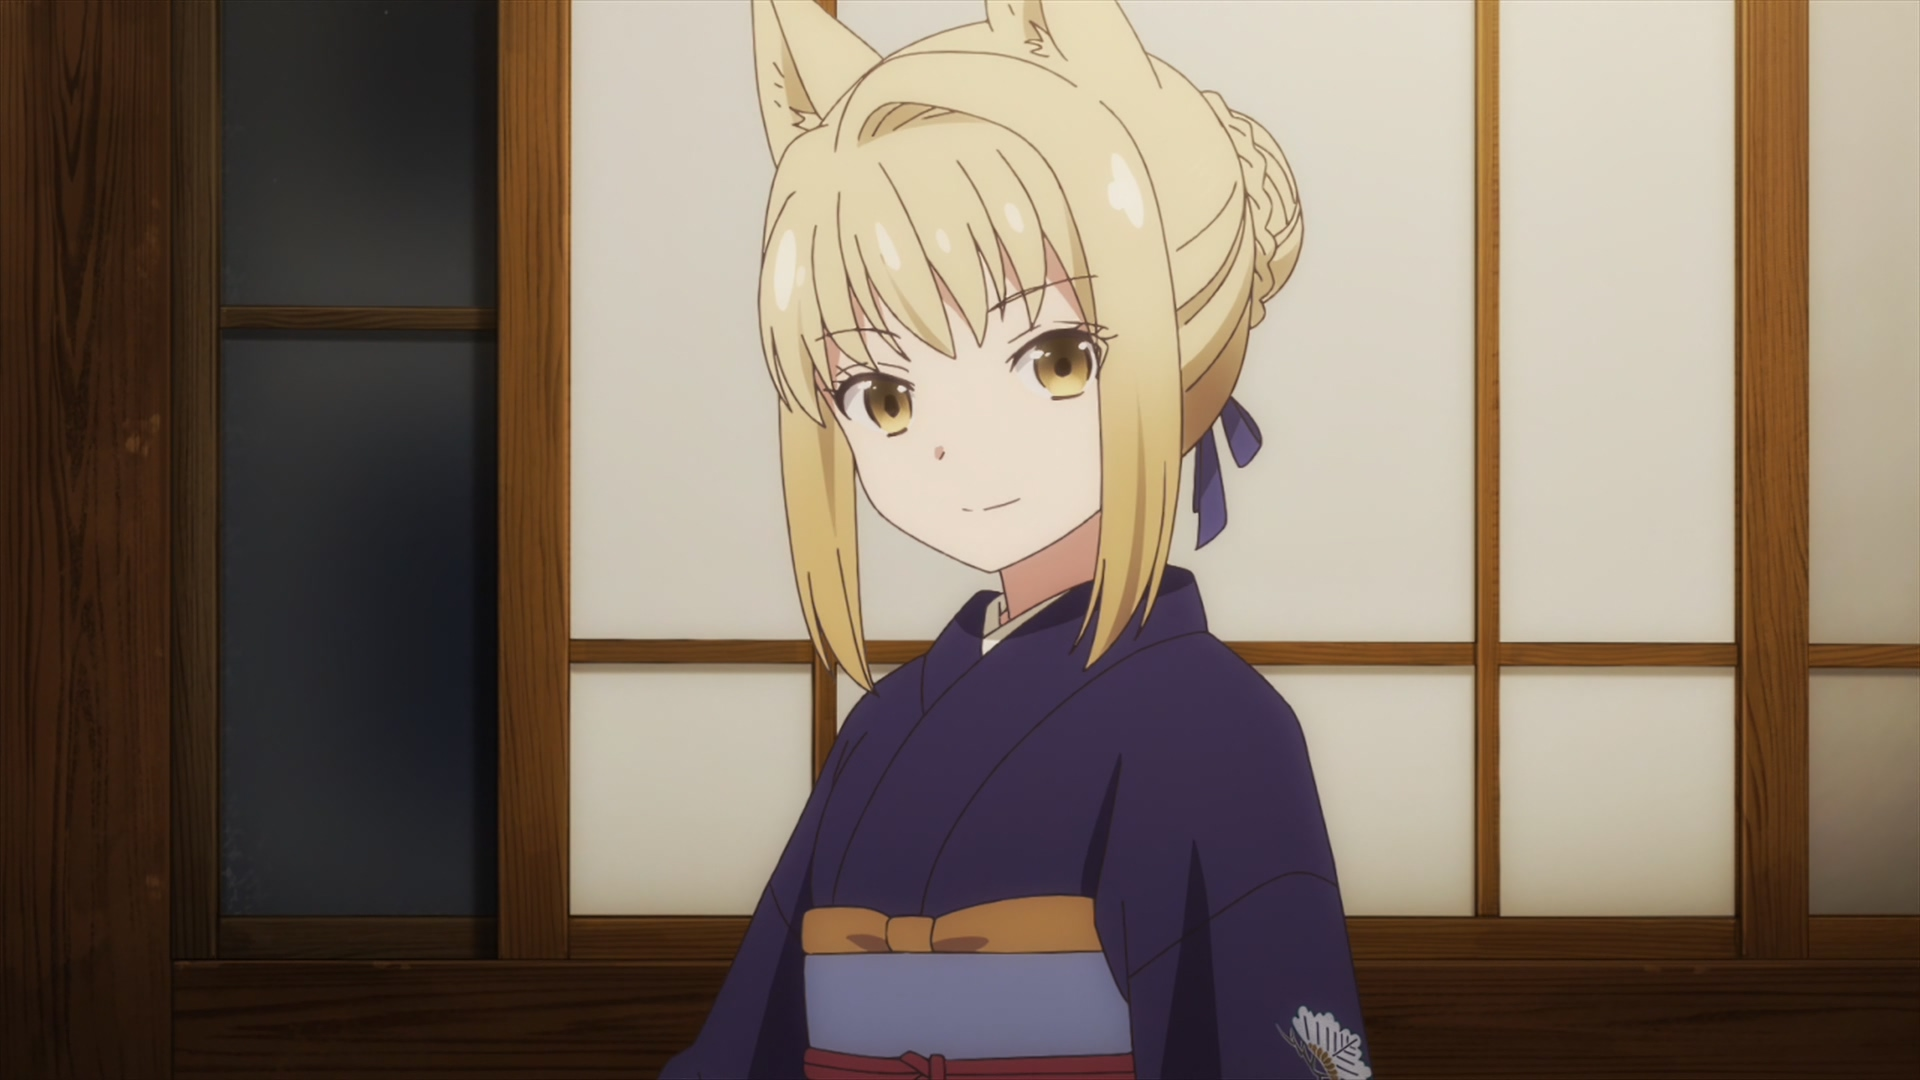桐: (659, 1, 1370, 1080)
